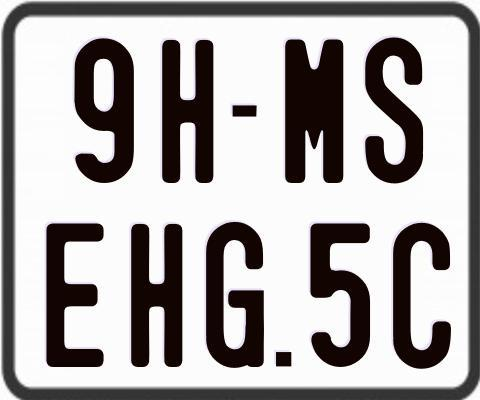5: (307, 222, 371, 367)
9: (73, 36, 135, 183)
C: (390, 220, 454, 372)
E: (46, 221, 107, 371)
G: (203, 221, 262, 372)
H: (161, 38, 218, 187), (128, 221, 180, 368)
M: (284, 37, 346, 181)
S: (362, 34, 420, 186)
